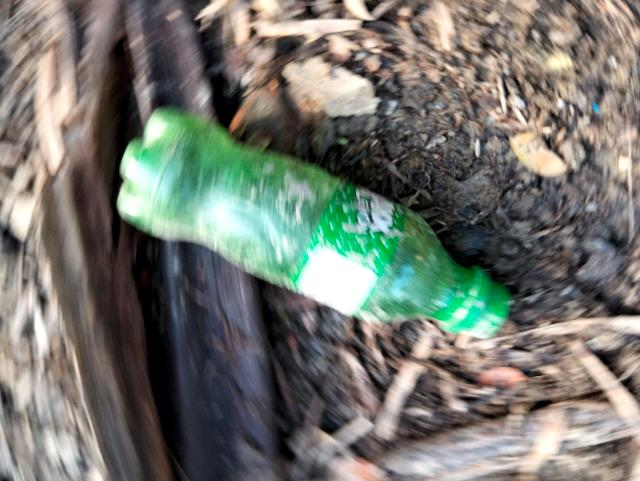bottle: (86, 86, 540, 400)
